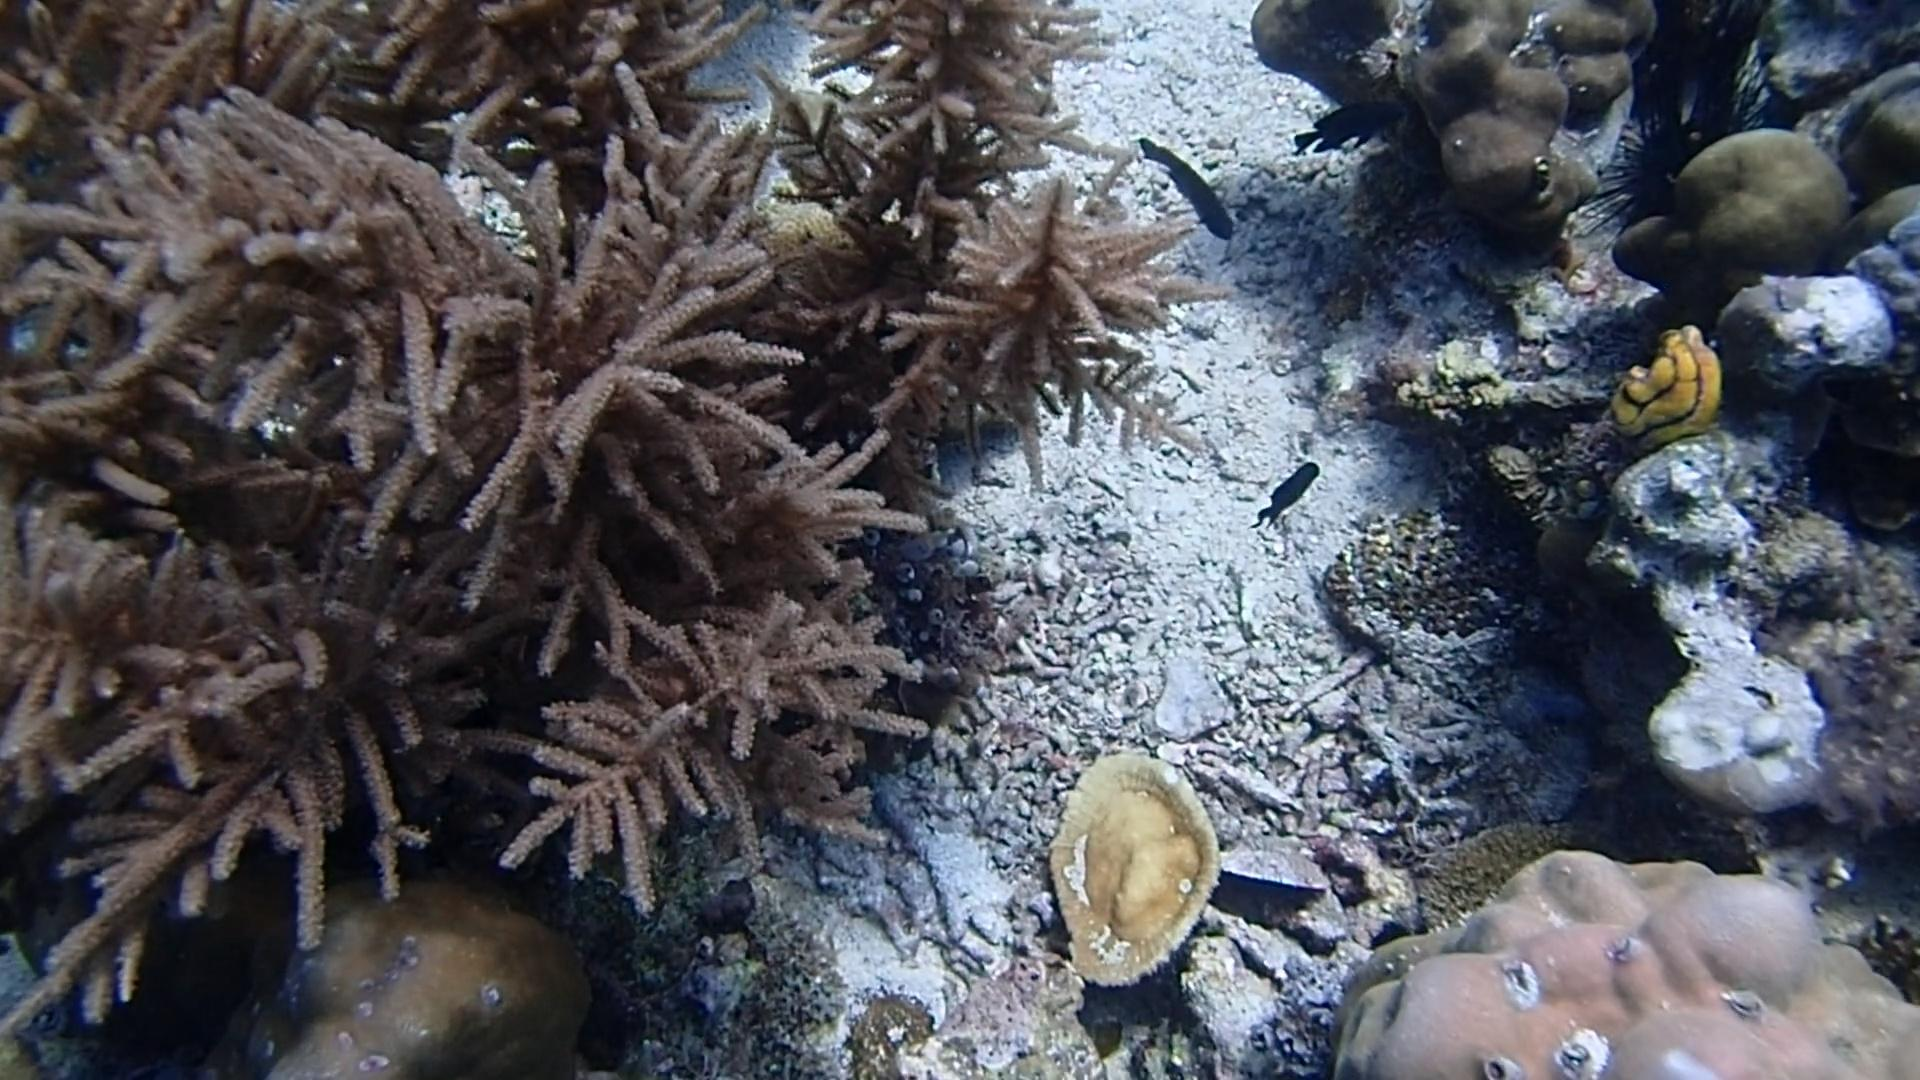Dark Fish: (1134, 128, 1247, 251), (1284, 88, 1403, 169), (1246, 448, 1336, 538)
